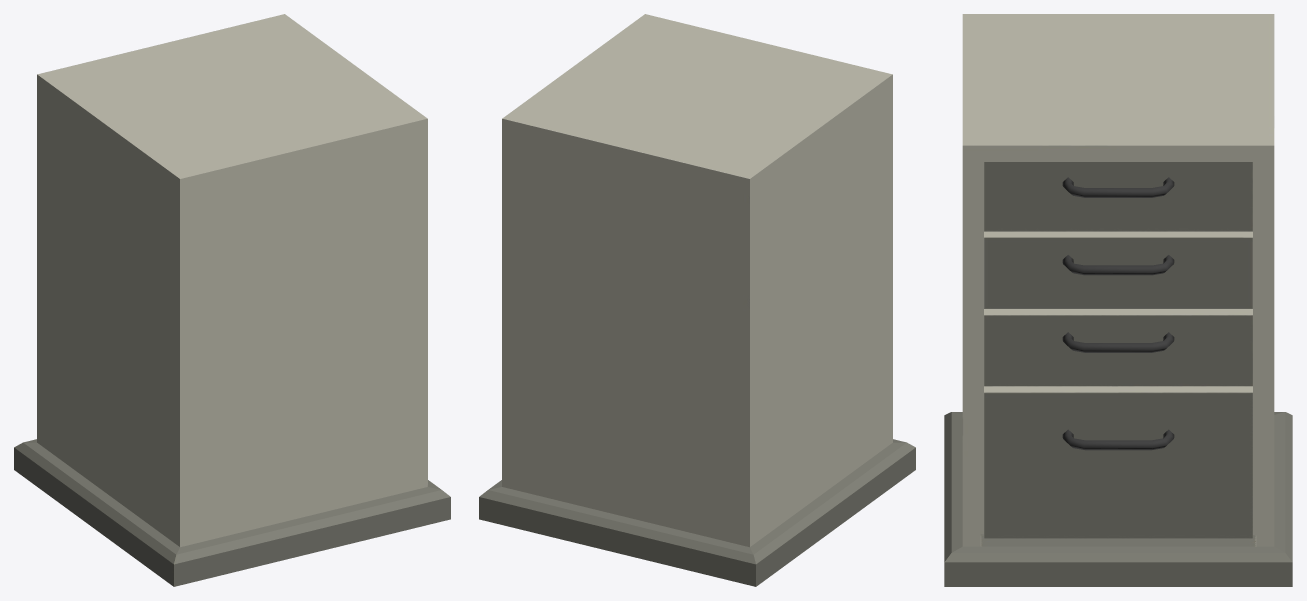
The model's file is commode.fbx.
The picture shows the model from 3 angles, left to right: view 1: azimuth 30°, elevation 25°; view 2: azimuth 150°, elevation 25°; view 3: azimuth 270°, elevation 25°; orthographic projection. The views are drawn at different scales.
Visible parts, largest first — view 1: Commode-material; view 2: Commode-material; view 3: Commode-material.
Boxes of the visible parts, box(x1,y1,x2,y2) form: Commode-material: box(14, 14, 450, 586); Commode-material: box(479, 14, 915, 586); Commode-material: box(944, 14, 1292, 586).
Bounding box in the file's own units: 7.62 × 10.43 × 7.59.
Materials: 1 (1 with a texture image).
